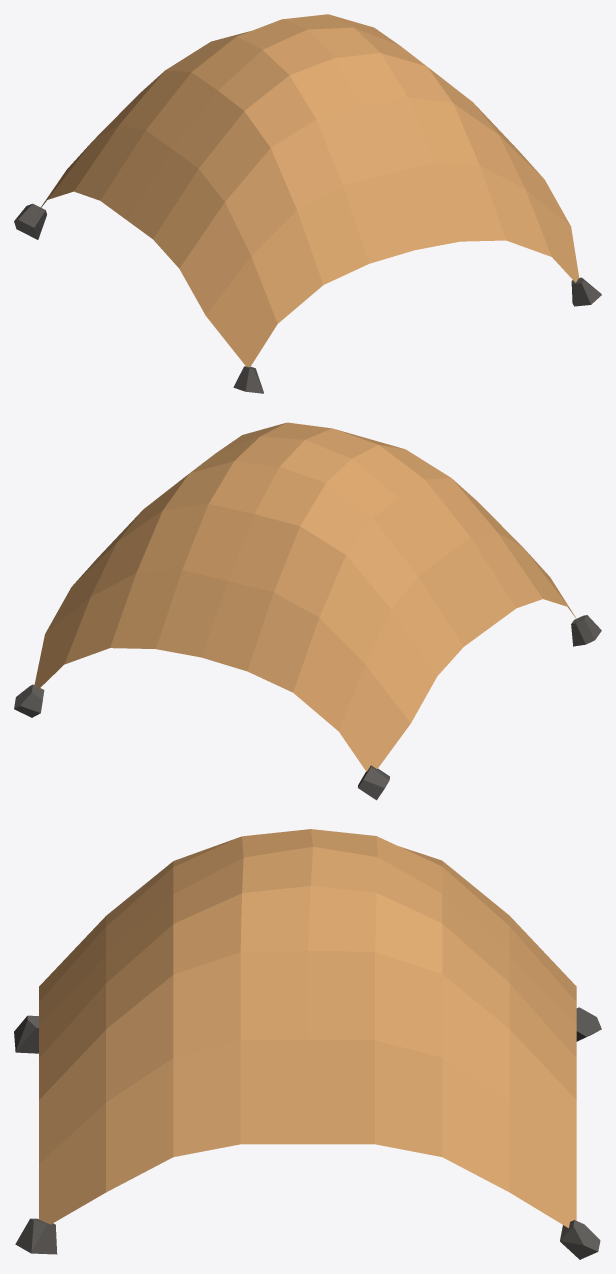
Rendered from haystack_top.fbx.
The picture shows the model from 3 angles, top to bottom: view 1: azimuth 30°, elevation 25°; view 2: azimuth 150°, elevation 25°; view 3: azimuth 270°, elevation 25°; orthographic projection. The views are drawn at different scales.
Visible parts, largest first — view 1: top; view 2: top; view 3: top.
Boxes of the visible parts, bbox=[...] form: top: bbox=[14, 14, 601, 393]; top: bbox=[14, 422, 601, 800]; top: bbox=[14, 829, 601, 1259].
Bounding box in the file's own units: 120 × 75.22 × 130.
